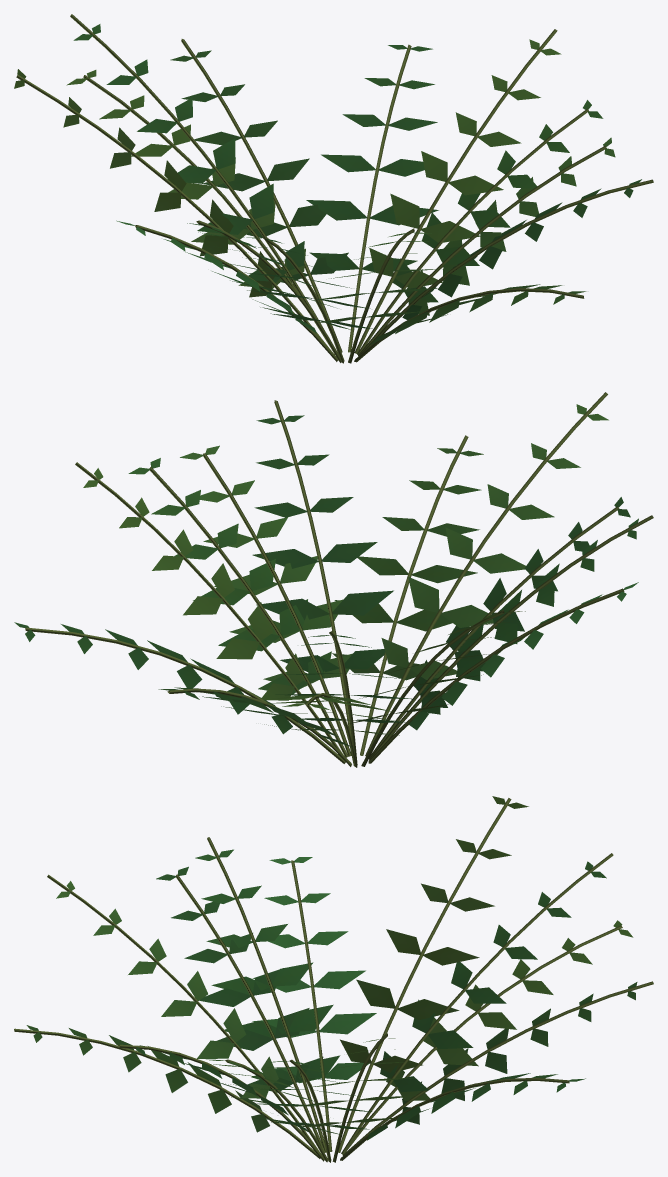
Rendered from fern-sword-b.lod1.glb.
3 renders of one model, top to bottom at view 1: azimuth 30°, elevation 25°; view 2: azimuth 150°, elevation 25°; view 3: azimuth 270°, elevation 25°, orthographic. The views are drawn at different scales.
Visible parts, largest first — view 1: fern-sword-b.lod1; view 2: fern-sword-b.lod1; view 3: fern-sword-b.lod1.
Part boxes in pixels (x1,y1,x2,y2): fern-sword-b.lod1: (14,14,653,363); fern-sword-b.lod1: (14,392,653,767); fern-sword-b.lod1: (14,796,653,1162).
Bounding box in the file's own units: 1.36 × 0.7244 × 1.66.
